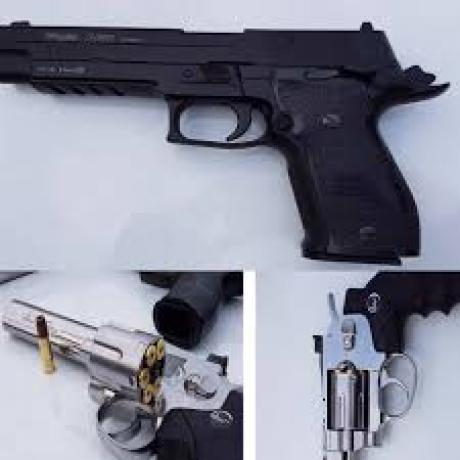Guns: (5, 19, 434, 264), (6, 299, 244, 453), (310, 268, 449, 453)
